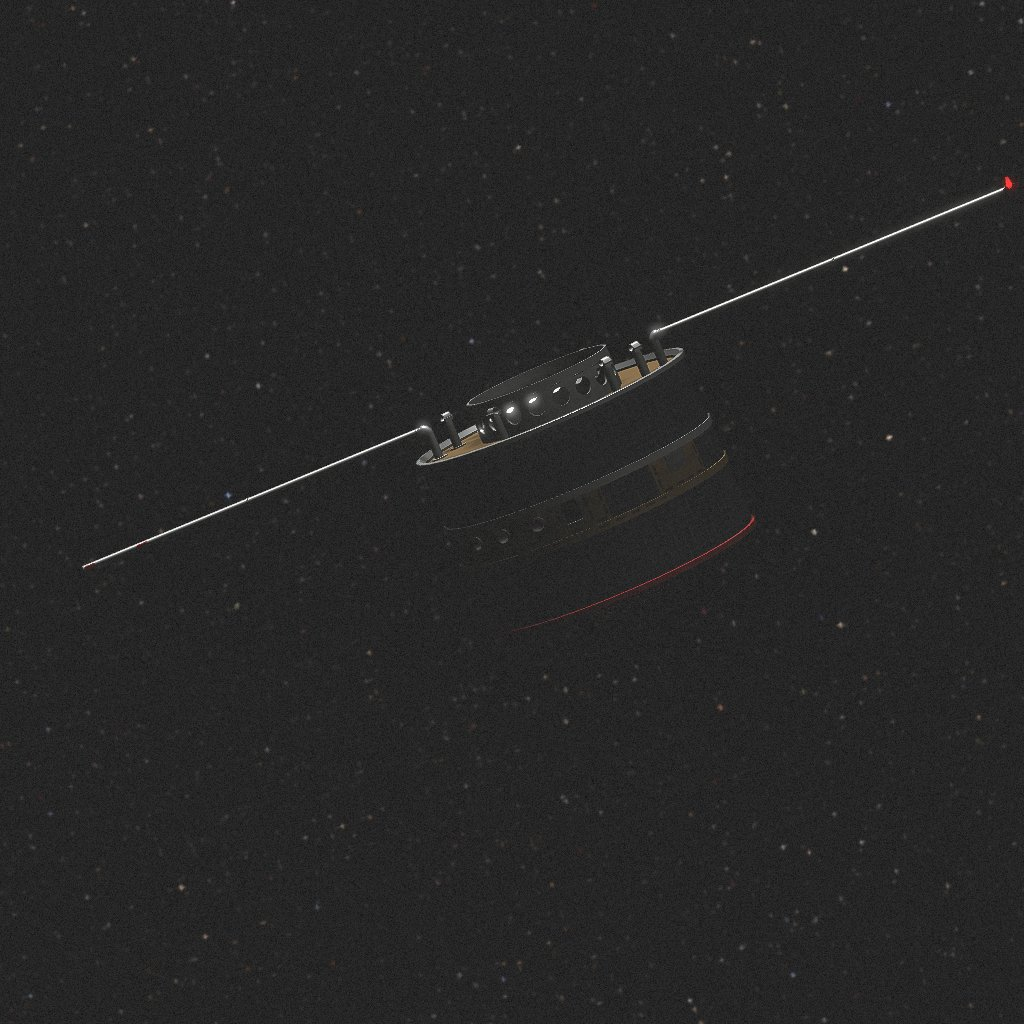double_star: (85, 224, 977, 692)
